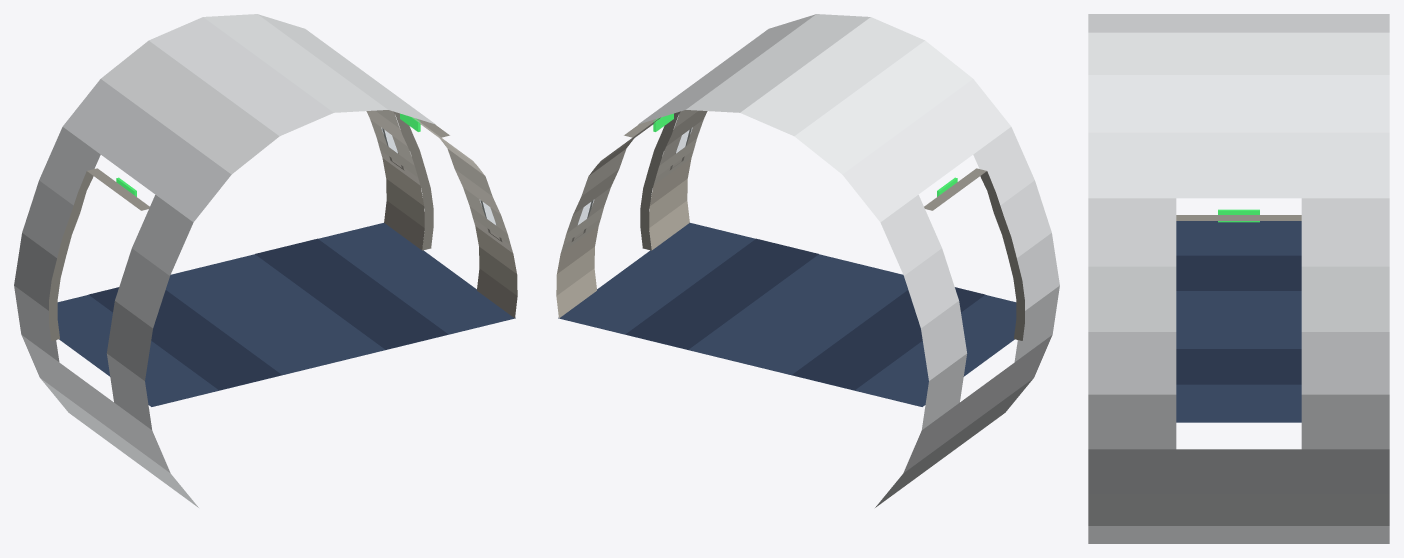
Rendered from ac_section_door.glb.
3 views of the same model, side by side, from view 1: azimuth 30°, elevation 25°; view 2: azimuth 150°, elevation 25°; view 3: azimuth 270°, elevation 25° (orthographic). The views are drawn at different scales.
Parts seen in each view (by area): view 1: ac_section_door; view 2: ac_section_door; view 3: ac_section_door.
Part boxes in pixels (box(x1,y1,x2,y2)): ac_section_door: box(14, 14, 517, 507); ac_section_door: box(556, 14, 1059, 507); ac_section_door: box(1088, 14, 1389, 543).
Size of the model in its own units: 6.11 by 6.47 by 3.6.
